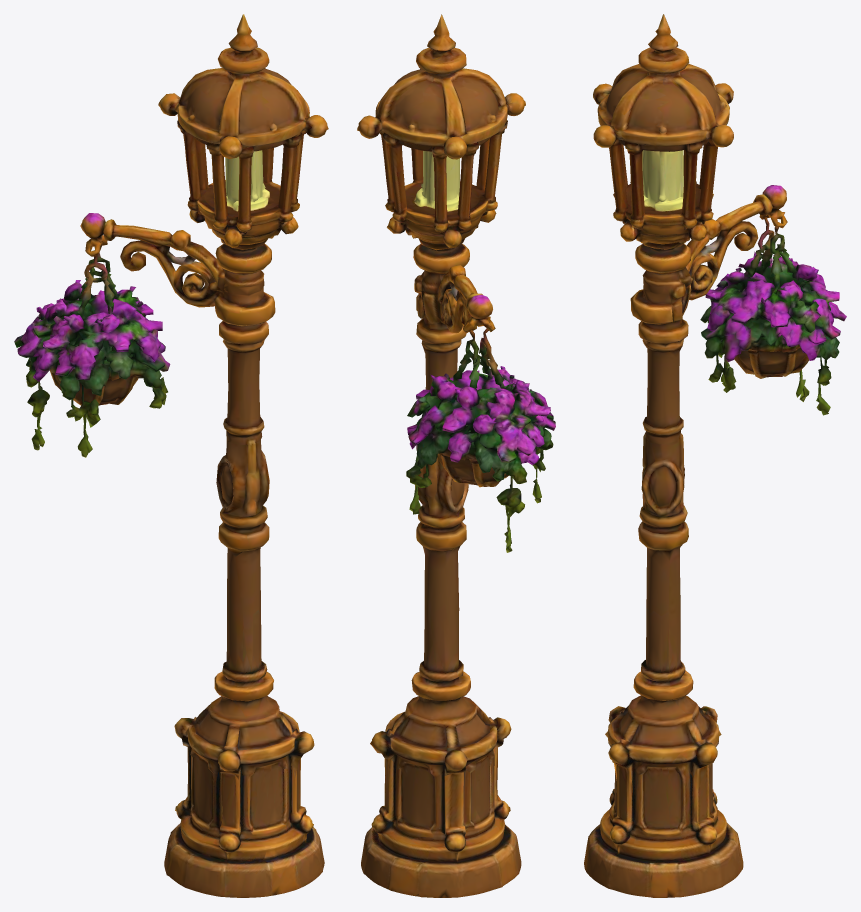
The model's file is prop_lantern.glb.
3 renders of one model, left to right at view 1: azimuth 30°, elevation 25°; view 2: azimuth 150°, elevation 25°; view 3: azimuth 270°, elevation 25°, orthographic.
Visible parts, largest first — view 1: tripo_node_7acca6b3-90db-4e36-b4b8-4b915064846a; view 2: tripo_node_7acca6b3-90db-4e36-b4b8-4b915064846a; view 3: tripo_node_7acca6b3-90db-4e36-b4b8-4b915064846a.
Boxes of the visible parts, <box> form: tripo_node_7acca6b3-90db-4e36-b4b8-4b915064846a: <box>14,14,328,897</box>; tripo_node_7acca6b3-90db-4e36-b4b8-4b915064846a: <box>357,14,555,897</box>; tripo_node_7acca6b3-90db-4e36-b4b8-4b915064846a: <box>584,14,846,897</box>.
Size of the model in its own units: 0.2753 by 0.9792 by 0.2745.
Materials: 1 (1 with a texture image).
